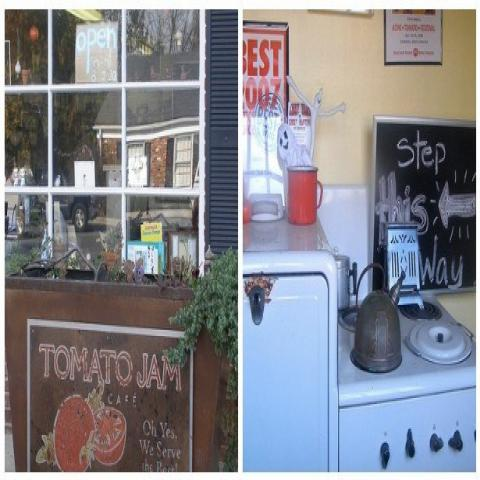car: (53, 168, 91, 233)
truck: (35, 165, 98, 232)
